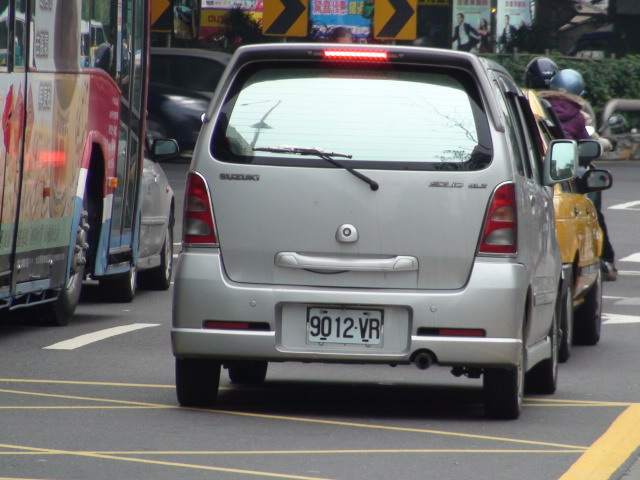plate: (305, 305, 385, 348)
